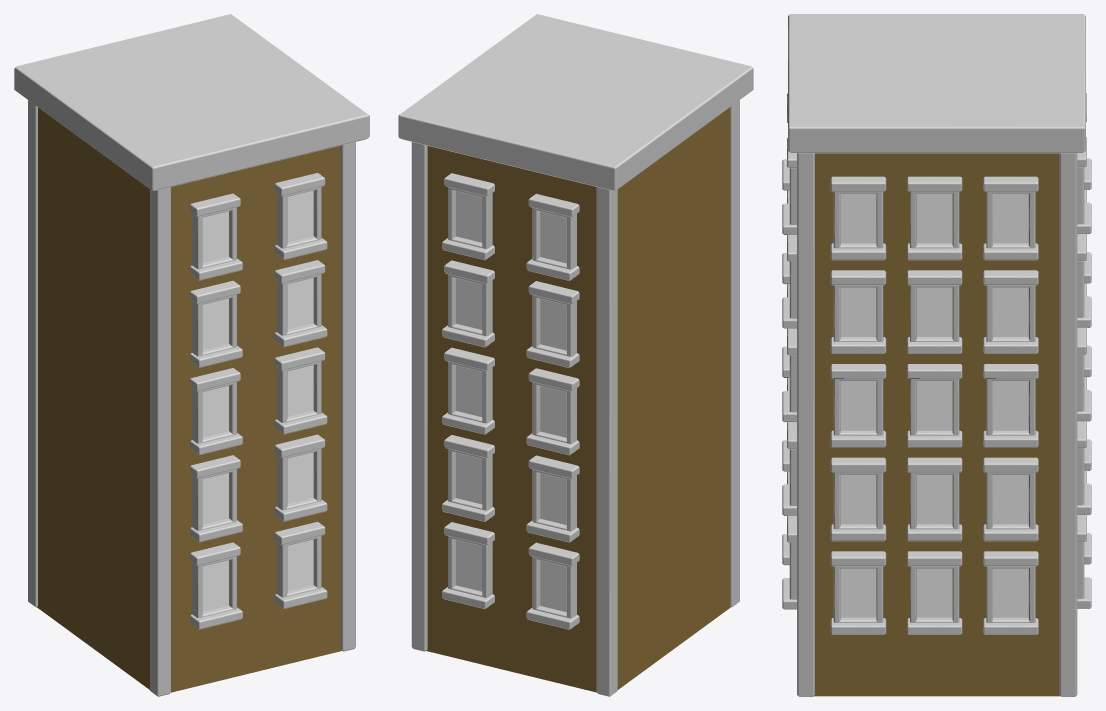
File: SM_Building_02.fbx
The picture shows the model from 3 angles, left to right: view 1: azimuth 30°, elevation 25°; view 2: azimuth 150°, elevation 25°; view 3: azimuth 270°, elevation 25°; orthographic projection. The views are drawn at different scales.
Parts seen in each view (by area): view 1: Building.001; view 2: Building.001; view 3: Building.001.
Boxes of the visible parts, x1,y1,x2,y2 form: Building.001: [14, 14, 369, 696]; Building.001: [398, 14, 753, 696]; Building.001: [782, 14, 1091, 696].
Size of the model in its own units: 946 by 2181 by 1063.
